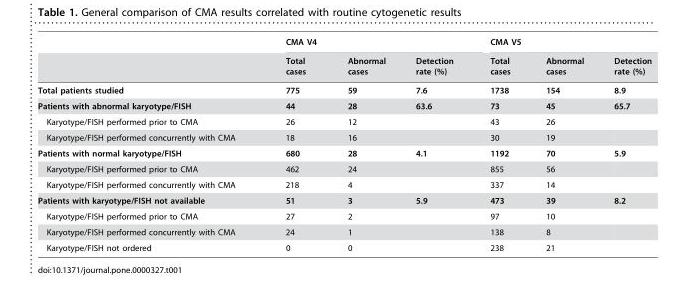table: (37, 37, 651, 252)
table column: (37, 37, 259, 252), (326, 37, 400, 252), (400, 37, 471, 252), (527, 37, 598, 252), (259, 37, 326, 252), (471, 37, 527, 252), (598, 37, 651, 252)
table column header: (37, 37, 651, 80)
table row: (37, 51, 651, 80), (37, 80, 651, 98), (37, 113, 651, 129), (37, 129, 651, 145), (37, 145, 651, 161), (37, 176, 651, 192), (37, 192, 651, 208), (37, 208, 651, 224), (37, 98, 651, 113), (37, 161, 651, 176), (37, 224, 651, 239), (37, 37, 651, 51), (37, 239, 651, 252)
table spanning cell: (259, 37, 471, 51), (471, 37, 651, 51)
